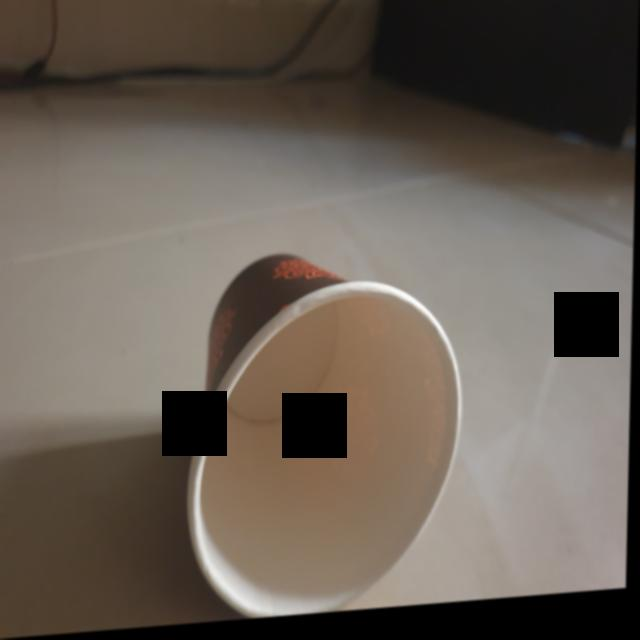cups: (184, 240, 472, 628)
